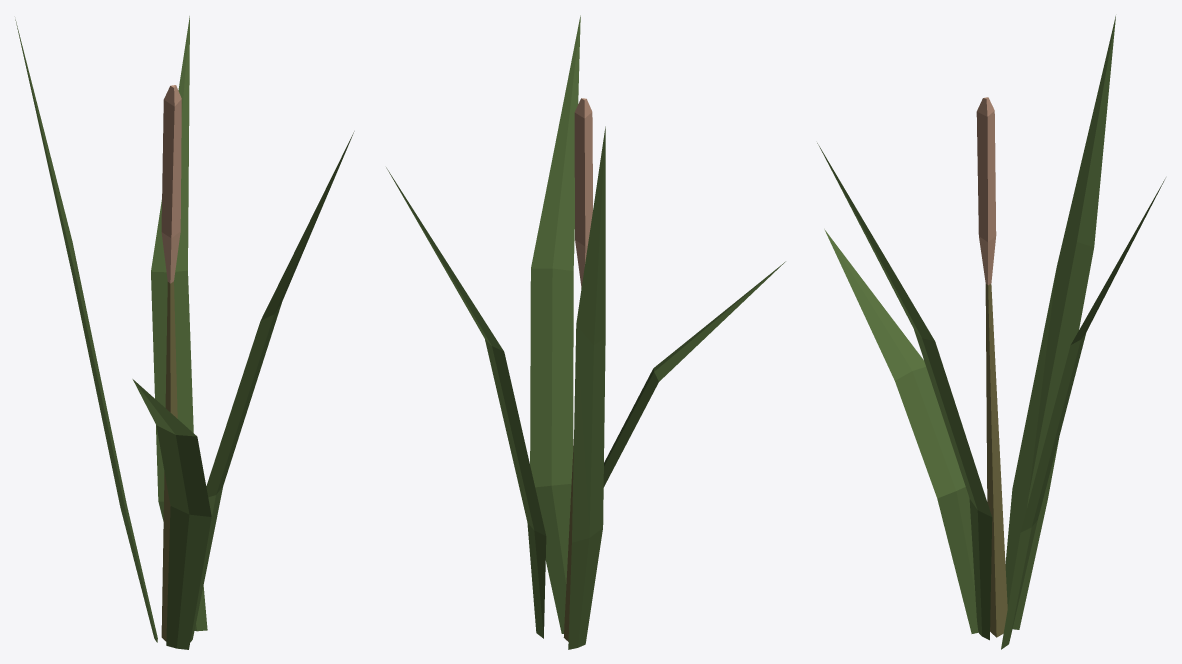
The model's file is Rice_Plant_1 Asia.fbx.
3 renders of one model, left to right at view 1: azimuth 30°, elevation 25°; view 2: azimuth 150°, elevation 25°; view 3: azimuth 270°, elevation 25°, orthographic. The views are drawn at different scales.
Visible parts, largest first — view 1: Rice_Plant_1; view 2: Rice_Plant_1; view 3: Rice_Plant_1.
Part boxes in pixels (x1,y1,x2,y2): Rice_Plant_1: (15, 16, 354, 649); Rice_Plant_1: (386, 15, 785, 649); Rice_Plant_1: (817, 16, 1165, 649).
Size of the model in its own units: 0.4255 by 1.03 by 0.571.
